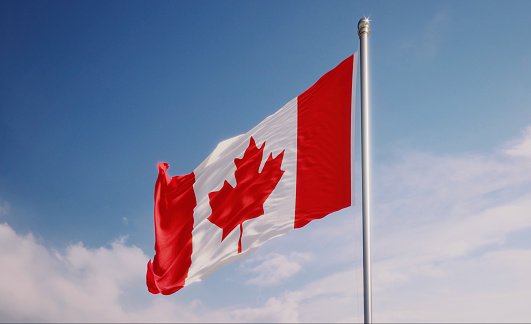Canada flag: (143, 52, 357, 297)
